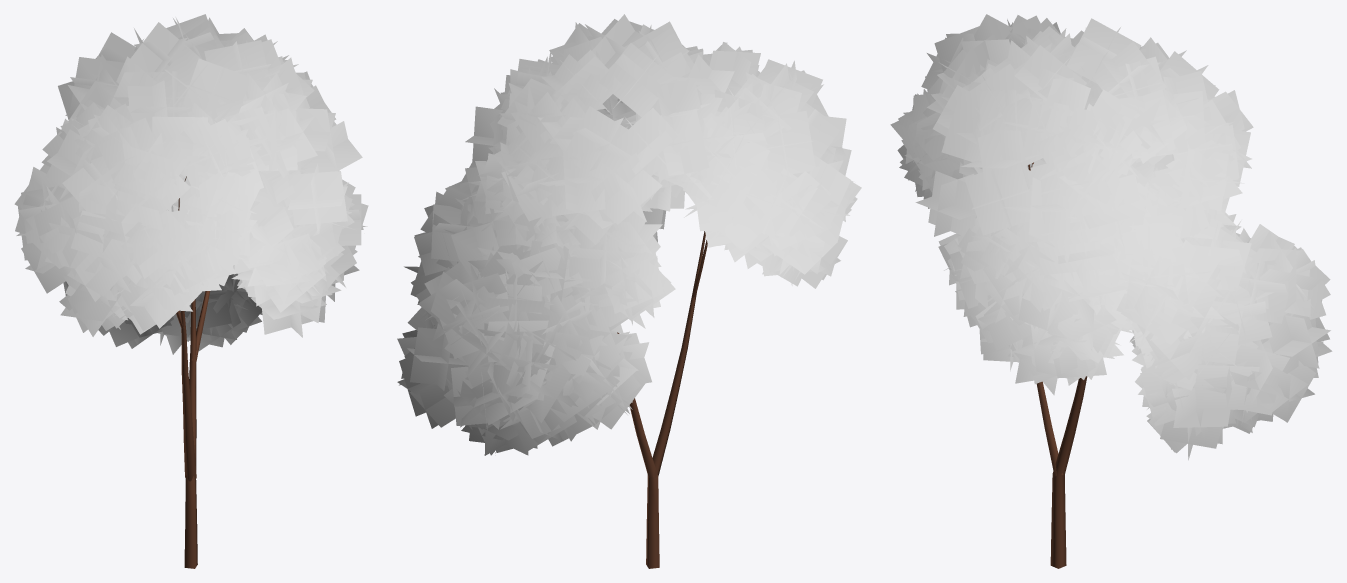
Rendered from T1Tree2.fbx.
3 views of the same model, side by side, from view 1: azimuth 30°, elevation 25°; view 2: azimuth 150°, elevation 25°; view 3: azimuth 270°, elevation 25° (orthographic). The views are drawn at different scales.
Parts seen in each view (by area): view 1: Leaves_1.2B, Leaves_1.2A, Bark_1.2; view 2: Leaves_1.2B, Leaves_1.2A, Bark_1.2; view 3: Leaves_1.2A, Leaves_1.2B, Bark_1.2.
Boxes of the visible parts, x1=… form: Leaves_1.2B: x1=15, y1=18, x2=368, y2=354; Leaves_1.2A: x1=14, y1=14, x2=367, y2=350; Bark_1.2: x1=176, y1=176, x2=210, y2=568; Leaves_1.2B: x1=399, y1=14, x2=857, y2=455; Leaves_1.2A: x1=397, y1=23, x2=861, y2=455; Bark_1.2: x1=617, y1=231, x2=707, y2=568; Leaves_1.2A: x1=890, y1=14, x2=1330, y2=460; Leaves_1.2B: x1=897, y1=15, x2=1332, y2=444; Bark_1.2: x1=1028, y1=162, x2=1087, y2=568.
Bounding box in the file's own units: 5.36 × 7.55 × 5.61.
